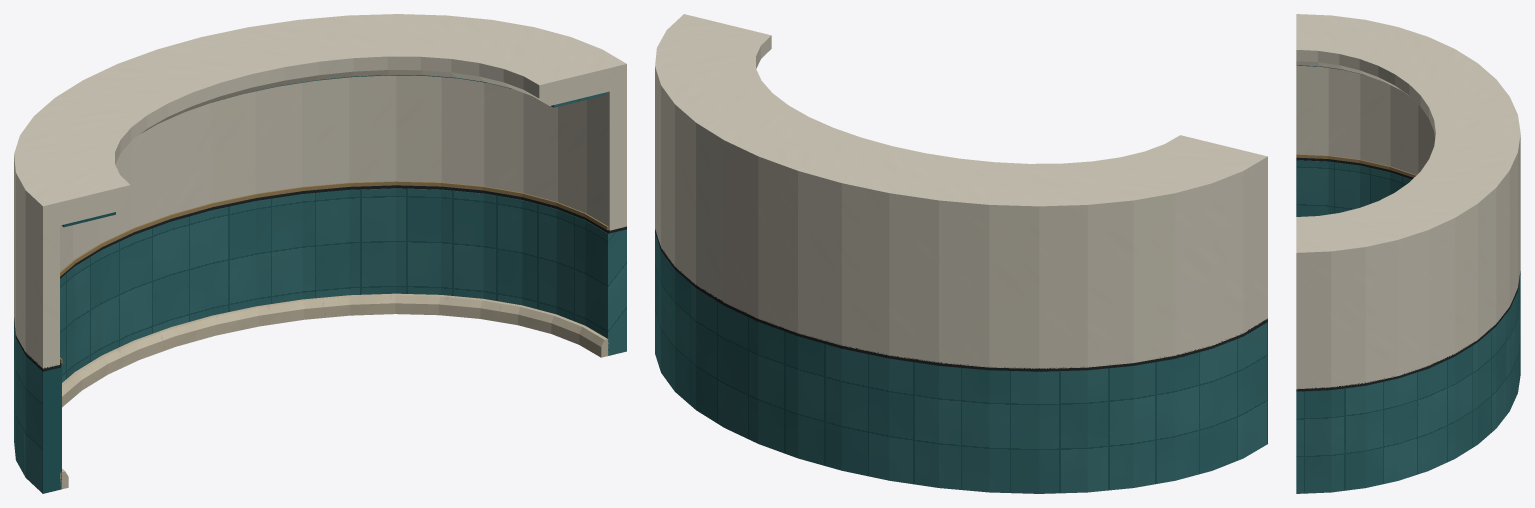
File: AST-AQU-011.glb
3 views of the same model, side by side, from view 1: azimuth 30°, elevation 25°; view 2: azimuth 150°, elevation 25°; view 3: azimuth 270°, elevation 25° (orthographic). The views are drawn at different scales.
Visible parts, largest first — view 1: AQR_UpperWall, AQR_WetWall, AQR_ShelteringSoffit, AQR_WashableFoot, AQR_BeltTrim, AQR_BeltReveal, AQR_RecessedCeilingInlay; view 2: AQR_UpperWall, AQR_WetWall, AQR_ShelteringSoffit, AQR_BeltReveal; view 3: AQR_UpperWall, AQR_WetWall, AQR_ShelteringSoffit, AQR_BeltReveal, AQR_BeltTrim.
Boxes of the visible parts, <box> form: AQR_UpperWall: <box>14,14,626,368</box>; AQR_WetWall: <box>14,188,626,493</box>; AQR_ShelteringSoffit: <box>14,14,626,225</box>; AQR_WashableFoot: <box>60,293,608,489</box>; AQR_BeltTrim: <box>60,181,608,363</box>; AQR_BeltReveal: <box>14,185,626,371</box>; AQR_RecessedCeilingInlay: <box>62,75,606,227</box>; AQR_UpperWall: <box>655,14,1267,368</box>; AQR_WetWall: <box>655,232,1267,493</box>; AQR_ShelteringSoffit: <box>655,14,1267,220</box>; AQR_BeltReveal: <box>655,229,1267,371</box>; AQR_UpperWall: <box>1296,14,1520,389</box>; AQR_WetWall: <box>1296,160,1520,493</box>; AQR_ShelteringSoffit: <box>1296,14,1520,264</box>; AQR_BeltReveal: <box>1296,157,1520,391</box>; AQR_BeltTrim: <box>1296,154,1416,177</box>.
Bounding box in the file's own units: 6.8 × 3.2 × 2.7.
Materials: 6 (5 with a texture image).
